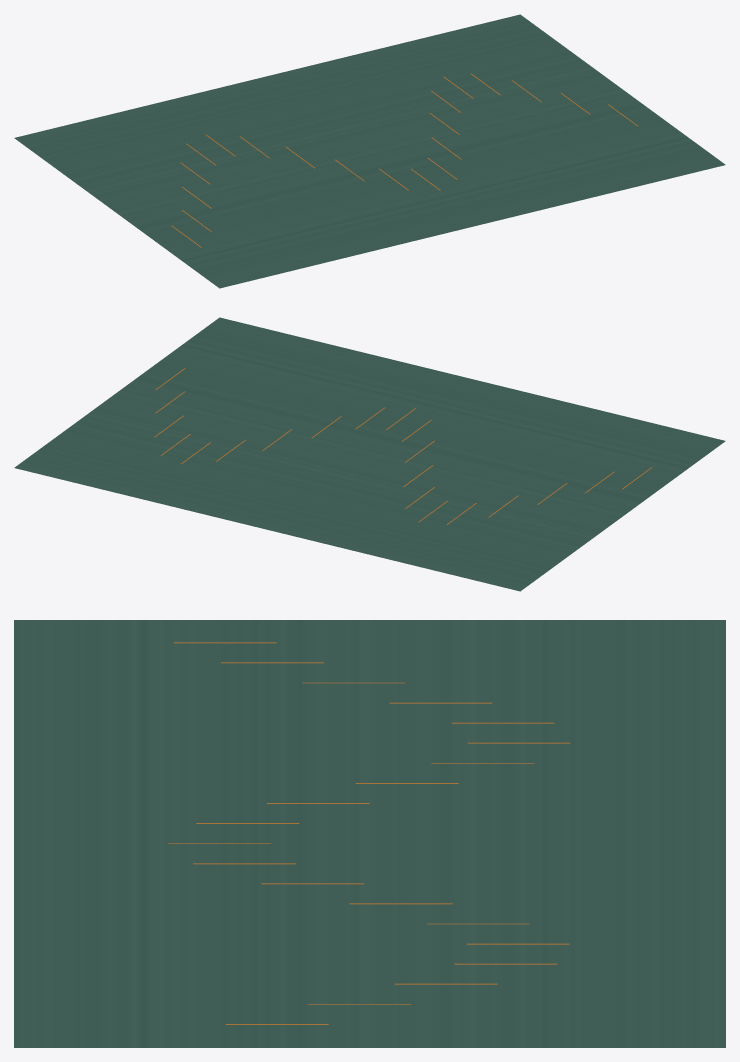
The model's file is 261_L118_L24_LayerReference.obj.
3 renders of one model, top to bottom at view 1: azimuth 30°, elevation 25°; view 2: azimuth 150°, elevation 25°; view 3: azimuth 270°, elevation 25°, orthographic. The views are drawn at different scales.
Parts seen in each view (by area): view 1: 261_L118_L24_LayerReference; view 2: 261_L118_L24_LayerReference; view 3: 261_L118_L24_LayerReference.
Part boxes in pixels (x1=…): 261_L118_L24_LayerReference: x1=14, y1=14, x2=725, y2=288; 261_L118_L24_LayerReference: x1=14, y1=317, x2=725, y2=591; 261_L118_L24_LayerReference: x1=14, y1=620, x2=725, y2=1047.
Bounding box in the file's own units: 0.472 × 0.000449 × 0.332.
2 materials, 2 textured.
